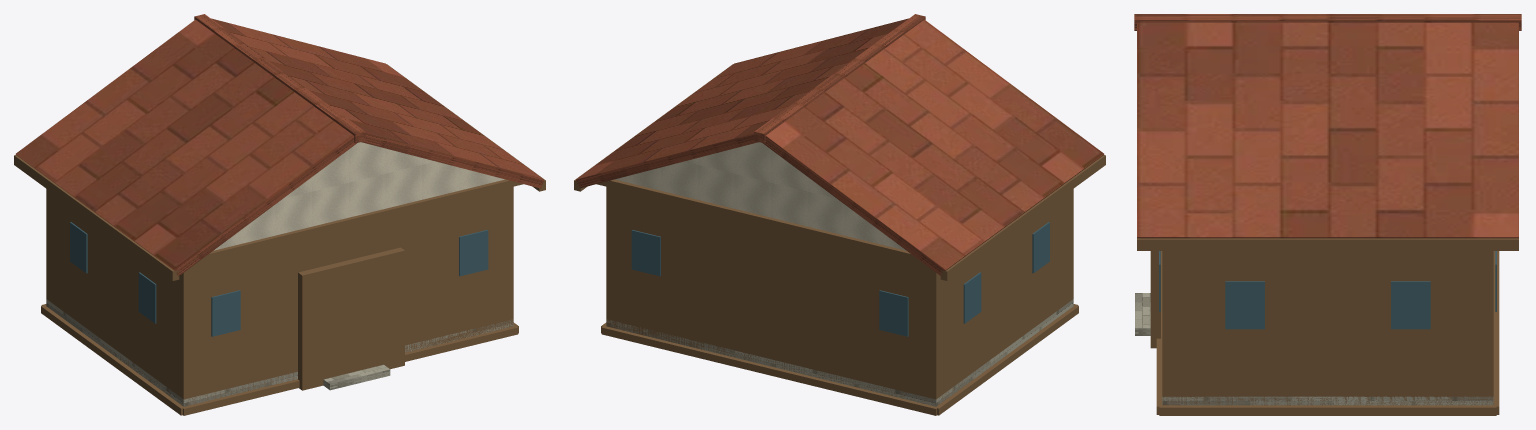
The picture shows the model from 3 angles, left to right: view 1: azimuth 30°, elevation 25°; view 2: azimuth 150°, elevation 25°; view 3: azimuth 270°, elevation 25°; orthographic projection. The views are drawn at different scales.
Parts seen in each view (by area): view 1: house-wood, house-roof, house-plaster, house-stone; view 2: house-wood, house-roof, house-plaster, house-stone; view 3: house-roof, house-wood, house-stone.
Part boxes in pixels (x1,y1,x2,y2): house-wood: [14, 64, 545, 415]; house-roof: [15, 14, 544, 276]; house-plaster: [214, 142, 504, 250]; house-stone: [46, 299, 513, 406]; house-wood: [574, 64, 1105, 415]; house-roof: [575, 14, 1104, 276]; house-plaster: [615, 142, 905, 250]; house-stone: [606, 299, 1073, 406]; house-roof: [1134, 14, 1521, 238]; house-wood: [1137, 238, 1518, 415]; house-stone: [1135, 293, 1493, 405].
Size of the model in its own units: 10.18 by 6.52 by 7.6.
4 materials, 3 textured.
